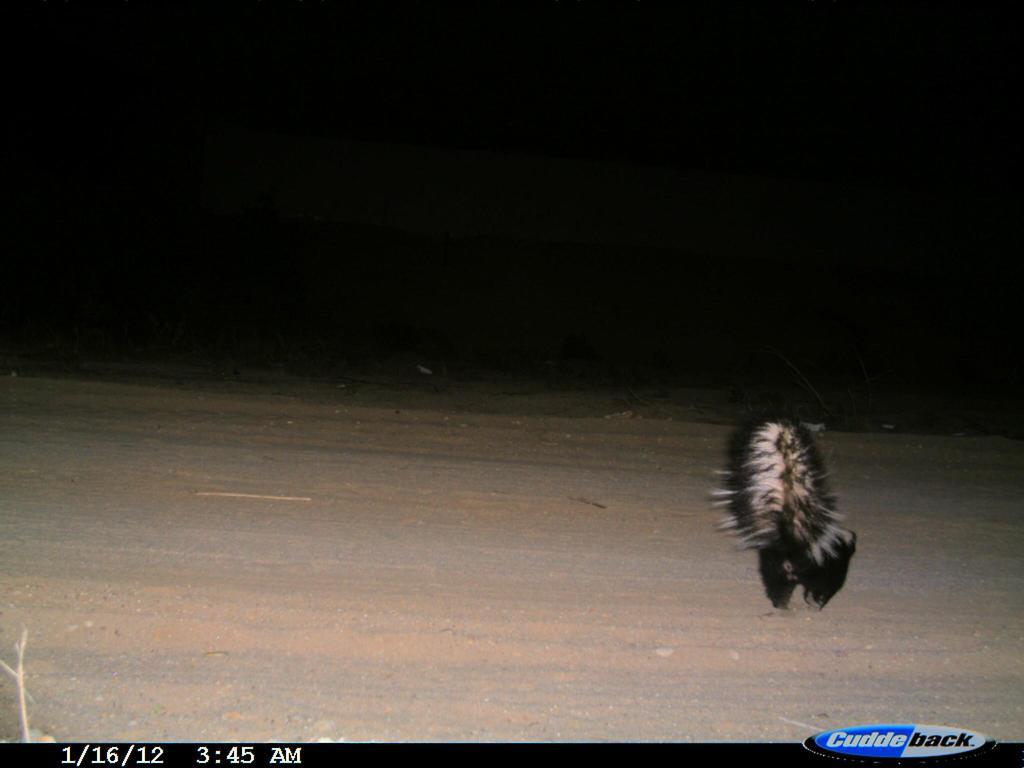skunk: (717, 402, 862, 628)
